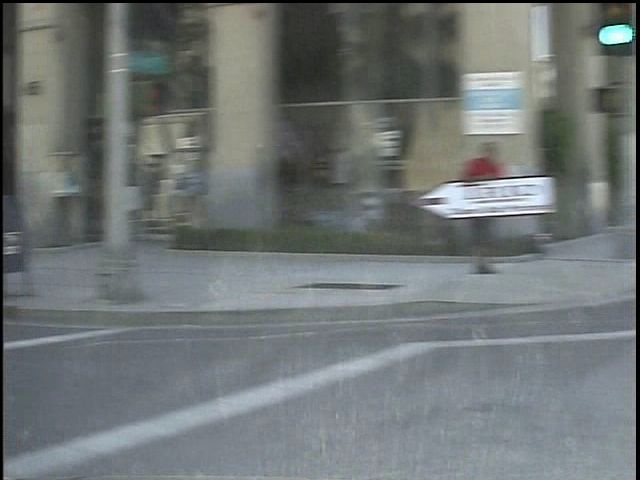person: (448, 133, 492, 282)
